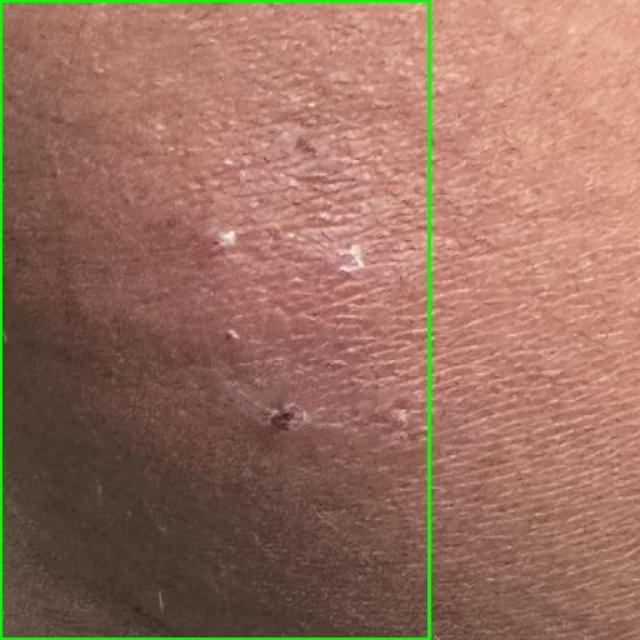Tinea Corporis: (0, 0, 429, 639)
